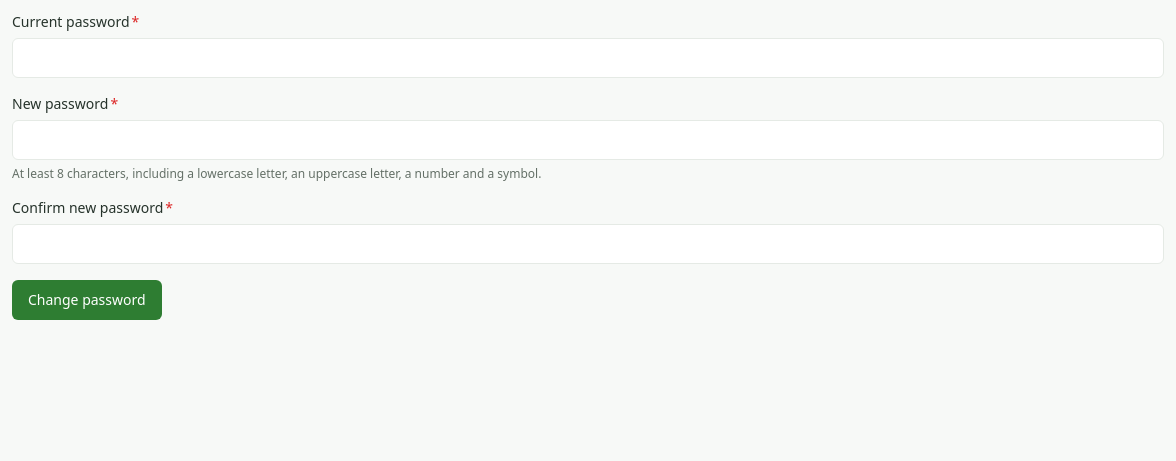
Test case: ChangePasswordForm › blocks submission when the confirmation does not match
Type "OldPass!1" into the password field labelled "Current password*" at (588, 58), box [12,38,1164,78]
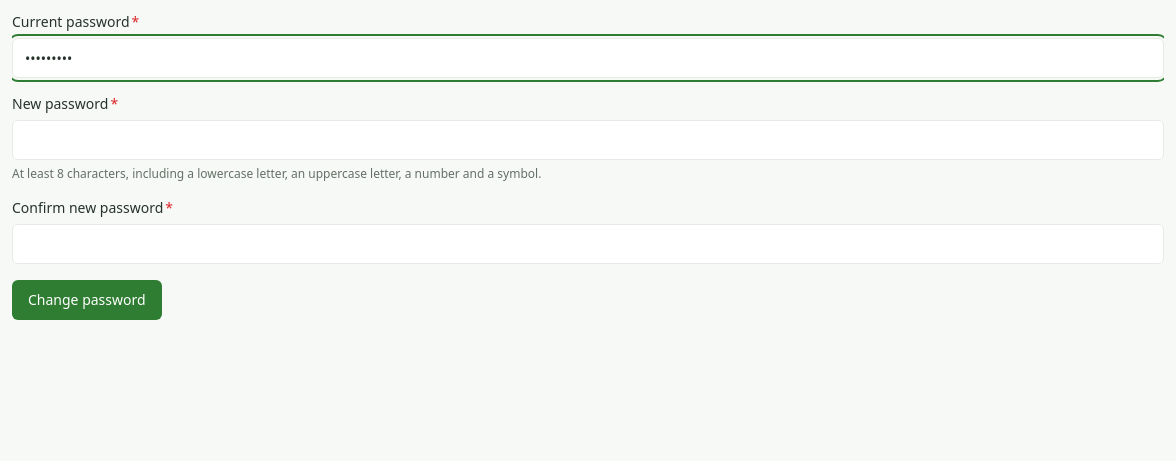
Type "Str0ng!pass" into the password field labelled "New password*" at (588, 140), box [12,120,1164,160]
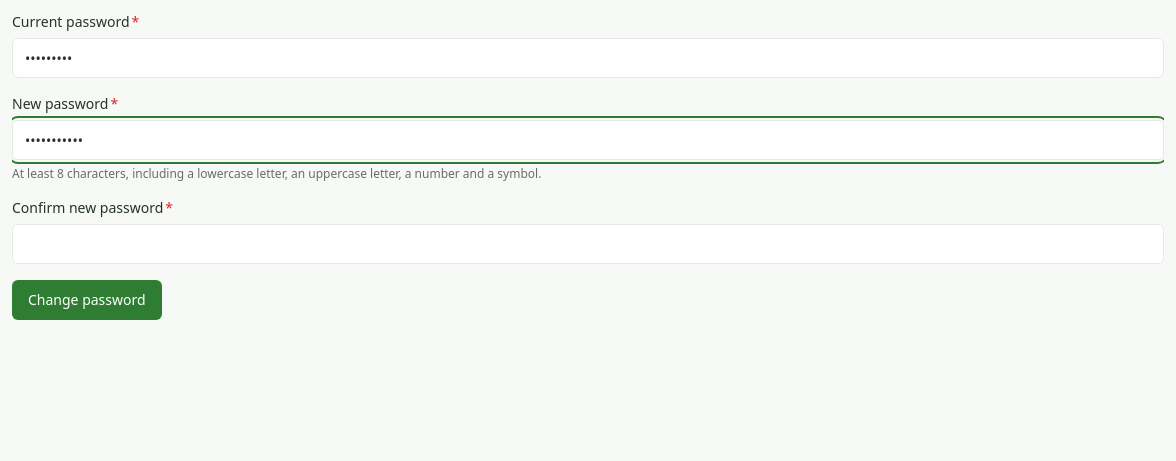
Type "Str0ng!passx" into the password field labelled "Confirm new password*" at (588, 244), box [12,224,1164,264]
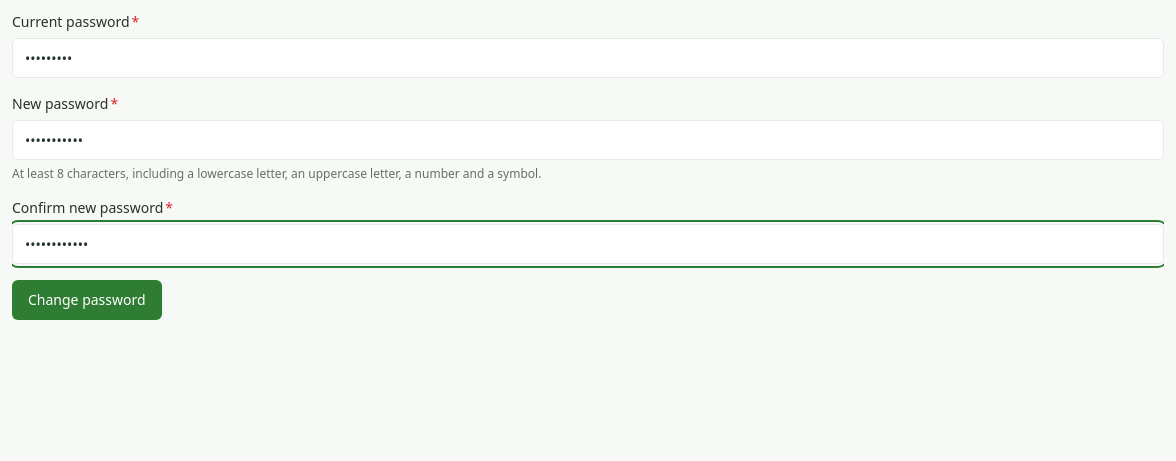
Click the button "Change password" at (87, 300), box [12,280,162,320]
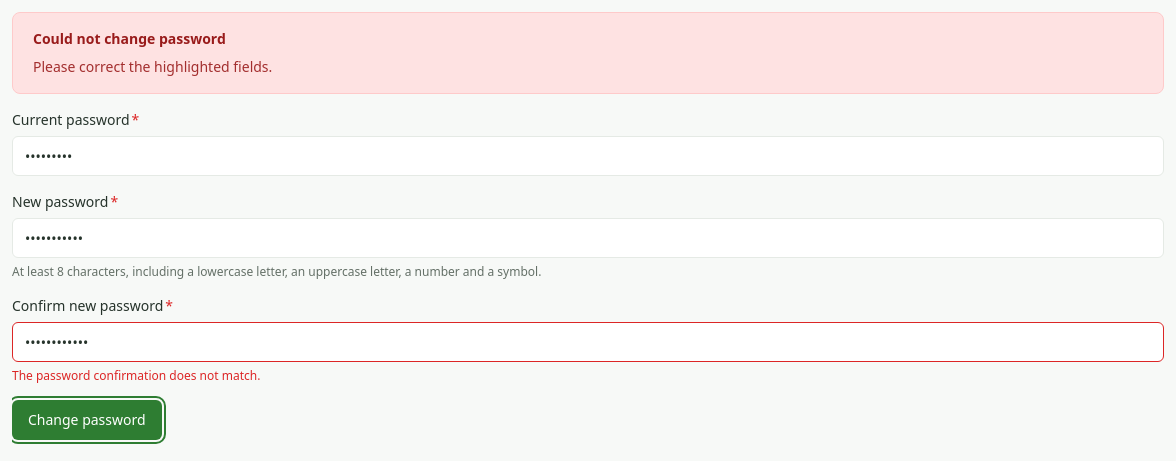
Expected: the text "The password confirmation does not match." is shown, [12,367,260,384]
